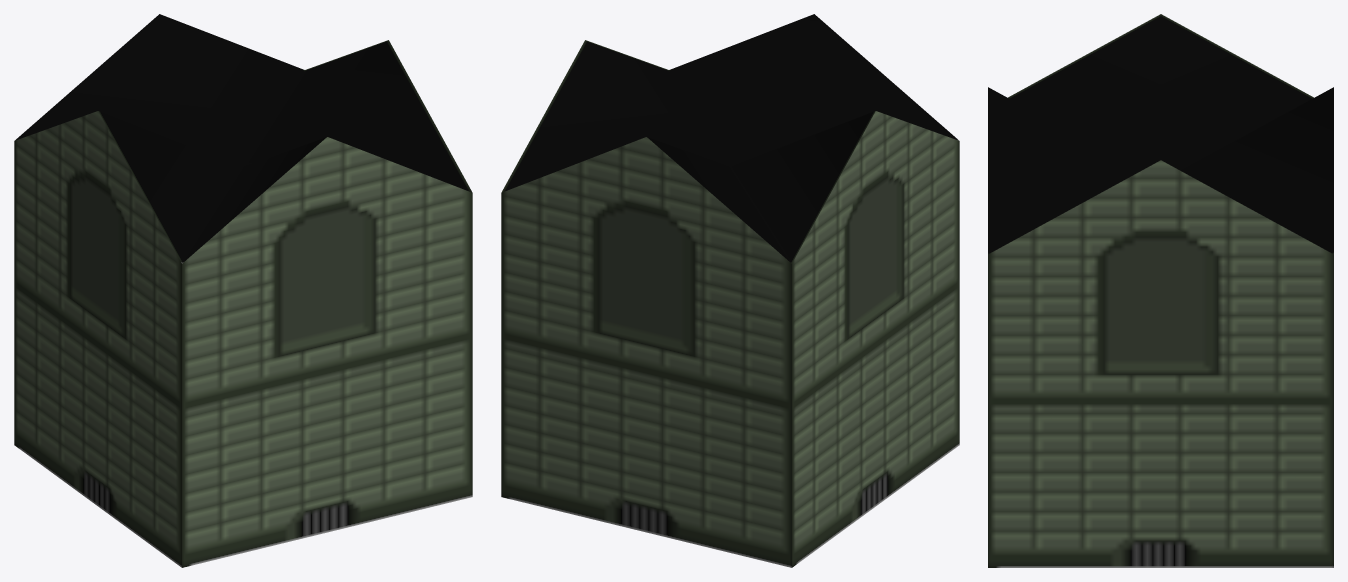
Rendered from wall.fbx.
3 renders of one model, left to right at view 1: azimuth 30°, elevation 25°; view 2: azimuth 150°, elevation 25°; view 3: azimuth 270°, elevation 25°, orthographic. The views are drawn at different scales.
Parts seen in each view (by area): view 1: pCube1; view 2: pCube1; view 3: pCube1.
Boxes of the visible parts, x1,y1,x2,y2 form: pCube1: [14, 14, 472, 567]; pCube1: [501, 14, 959, 567]; pCube1: [988, 14, 1333, 567].
Size of the model in its own units: 1 by 1.3 by 1.
